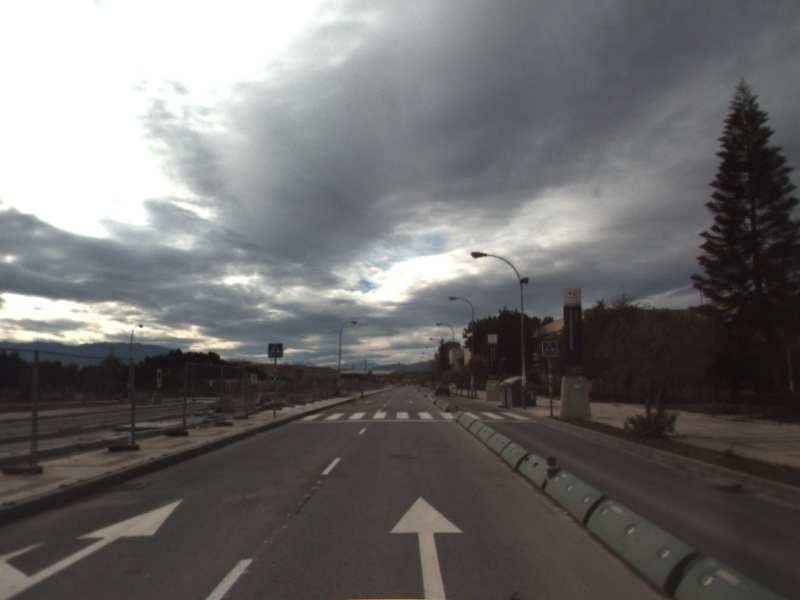STRAIGHT: (386, 491, 467, 600)
STRAIGHT_LEFT: (1, 496, 186, 600)
